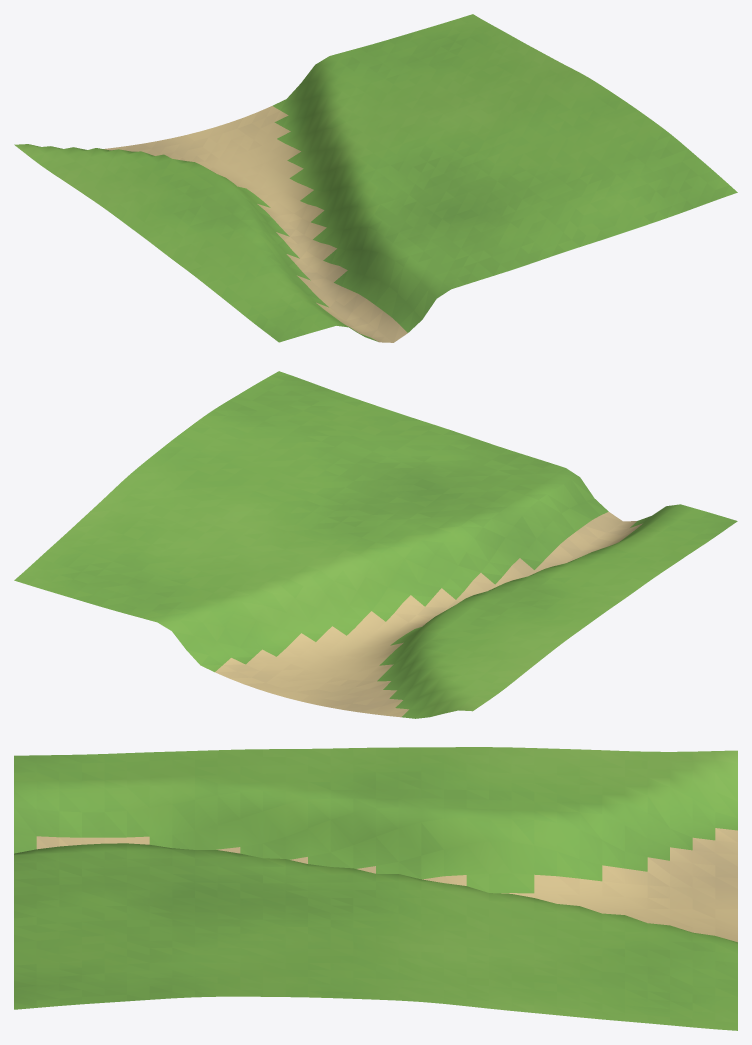
Rendered from terrain_r1_c4.glb.
3 views of the same model, one above another, from view 1: azimuth 30°, elevation 25°; view 2: azimuth 150°, elevation 25°; view 3: azimuth 270°, elevation 25° (orthographic). The views are drawn at different scales.
Parts seen in each view (by area): view 1: terrain_r1_c4; view 2: terrain_r1_c4; view 3: terrain_r1_c4.
Boxes of the visible parts, x1,y1,x2,y2 form: terrain_r1_c4: [14, 14, 737, 342]; terrain_r1_c4: [14, 371, 737, 718]; terrain_r1_c4: [14, 747, 737, 1030].
Bounding box in the file's own units: 128 × 20.25 × 128.
1 material, 1 textured.
